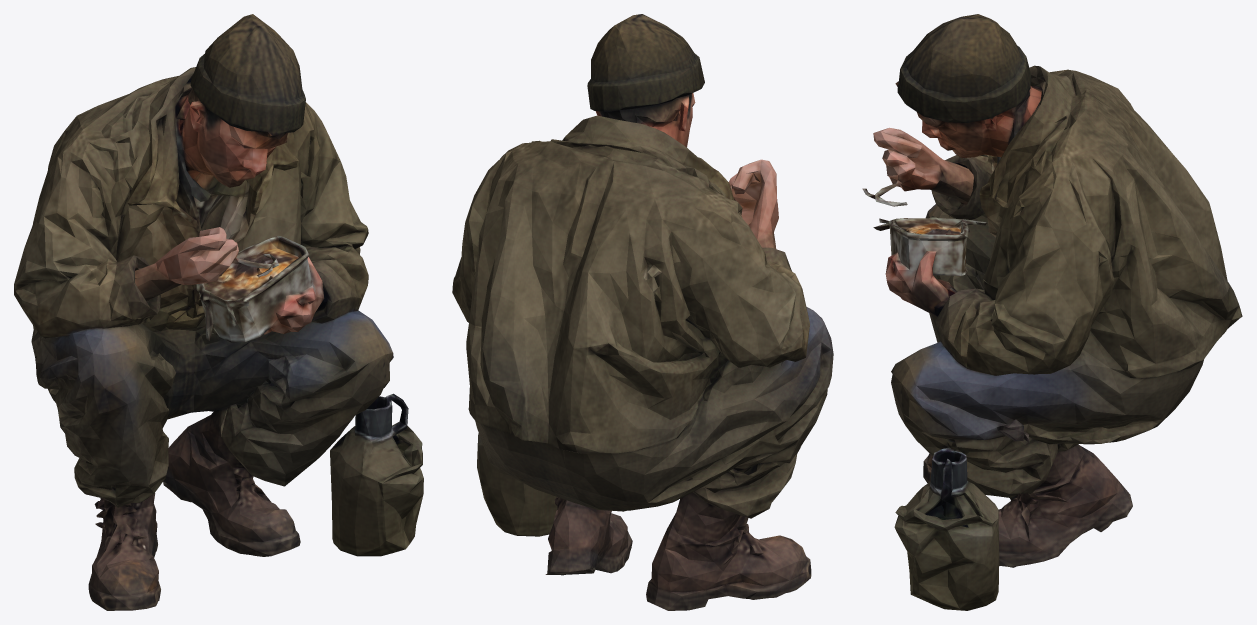
The model's file is crew_us_mess.glb.
The picture shows the model from 3 angles, left to right: view 1: azimuth 30°, elevation 25°; view 2: azimuth 150°, elevation 25°; view 3: azimuth 270°, elevation 25°; orthographic projection. The views are drawn at different scales.
Parts seen in each view (by area): view 1: geometry_0; view 2: geometry_0; view 3: geometry_0.
Part boxes in pixels (box(x1,y1,x2,y2)): geometry_0: box(14, 14, 423, 610); geometry_0: box(452, 14, 833, 610); geometry_0: box(862, 14, 1242, 610).
Size of the model in its own units: 0.6891 by 1 by 0.6533.
1 material, 1 textured.
